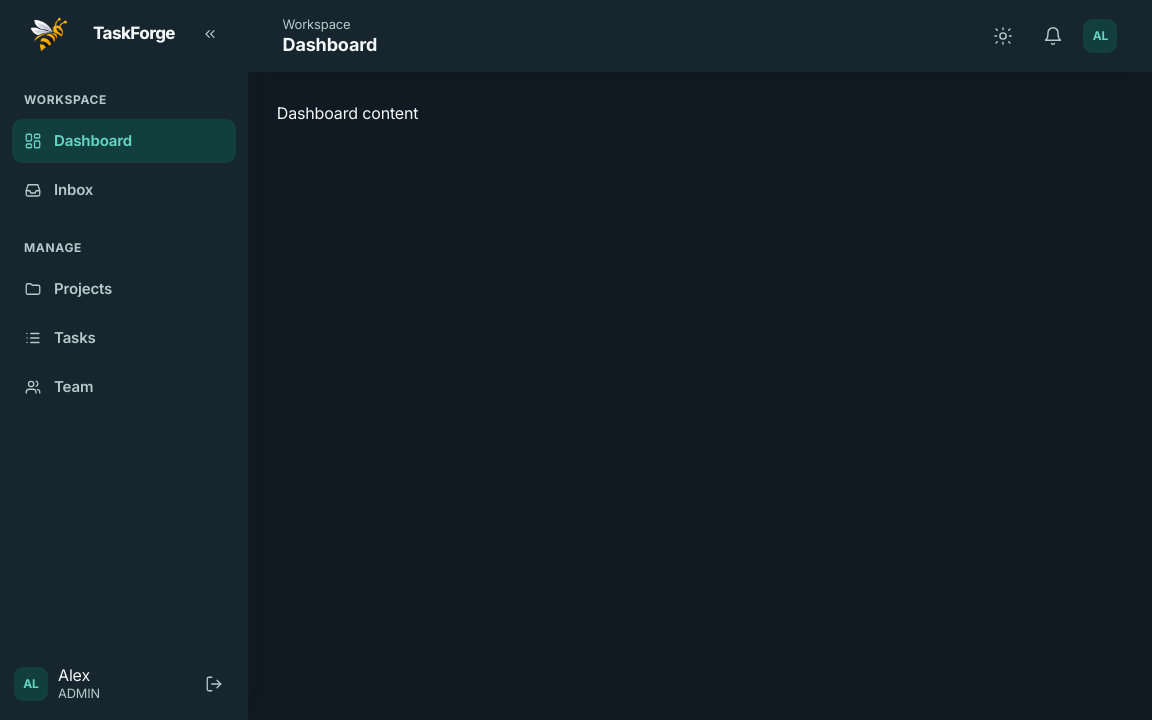
AppLayout navigation and theme controls › uses an icon-only persistent theme toggle and preserves active navigation
Click the button named "Switch to light theme".
click(1004, 36)  # box [984, 16, 1024, 56]
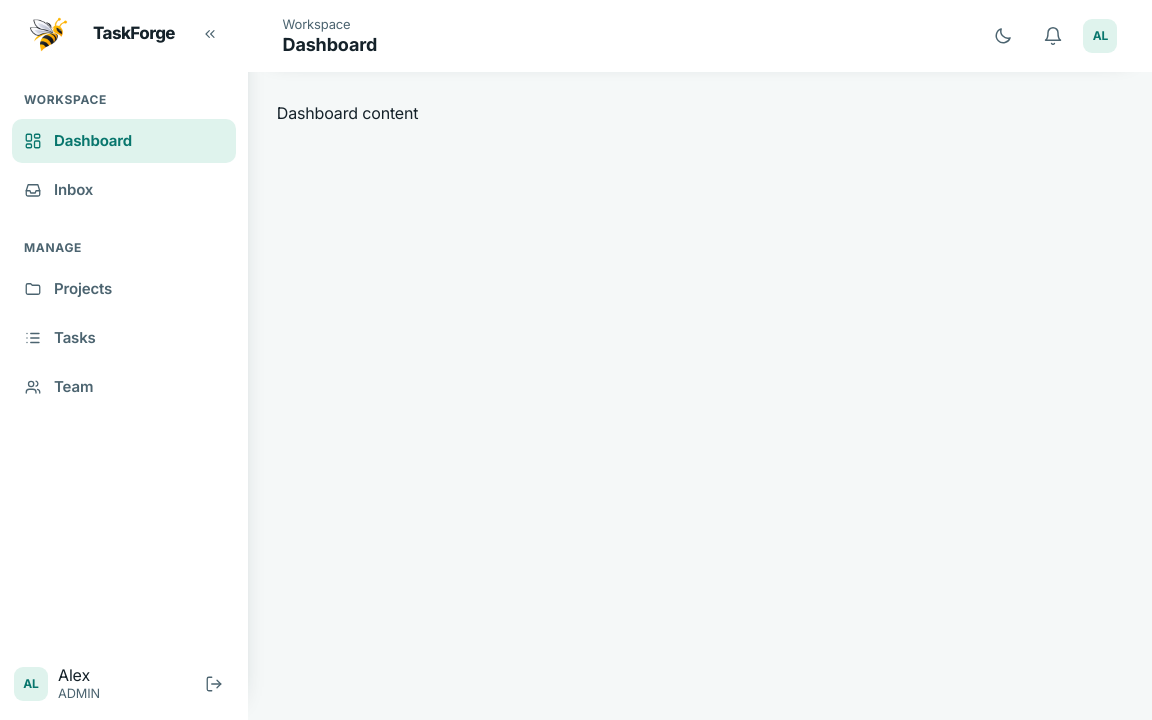
Check: the header with class "app-header" is shown, box [248, 0, 1151, 72]
Check: the button named "Switch to dark theme" is shown, box [984, 16, 1024, 56]
Click the button named "Collapse sidebar".
click(210, 34)  # box [190, 14, 230, 54]
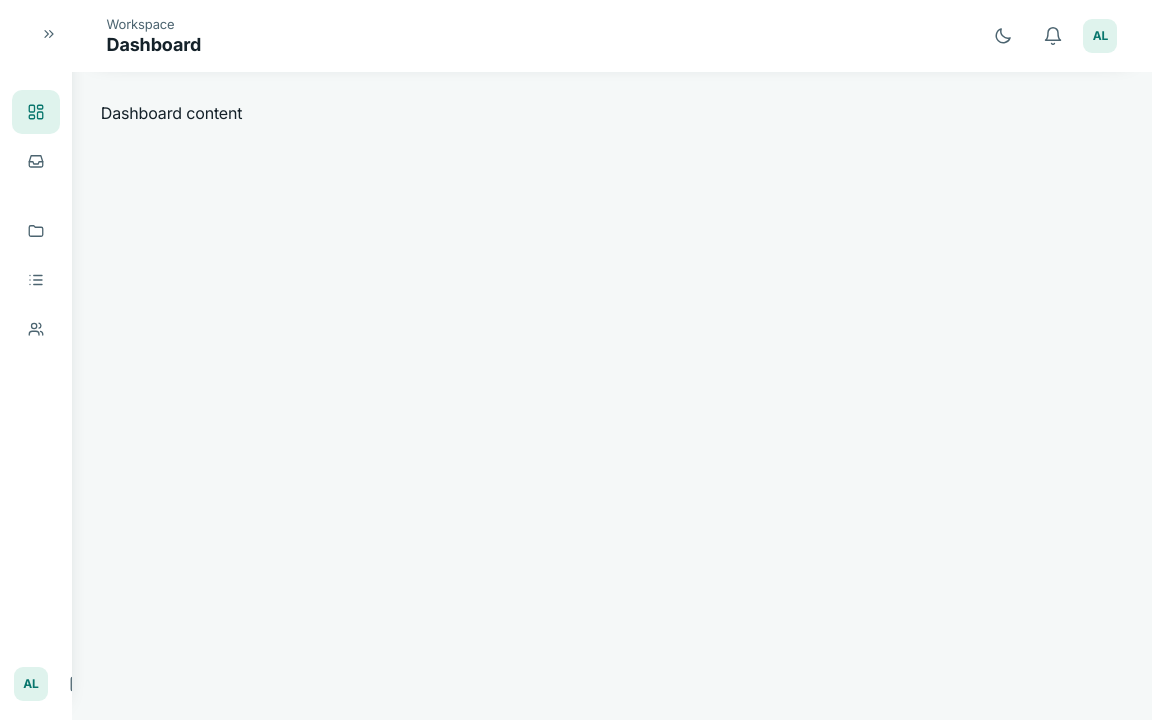
Check: the button named "Expand sidebar" is shown, box [29, 14, 69, 54]
